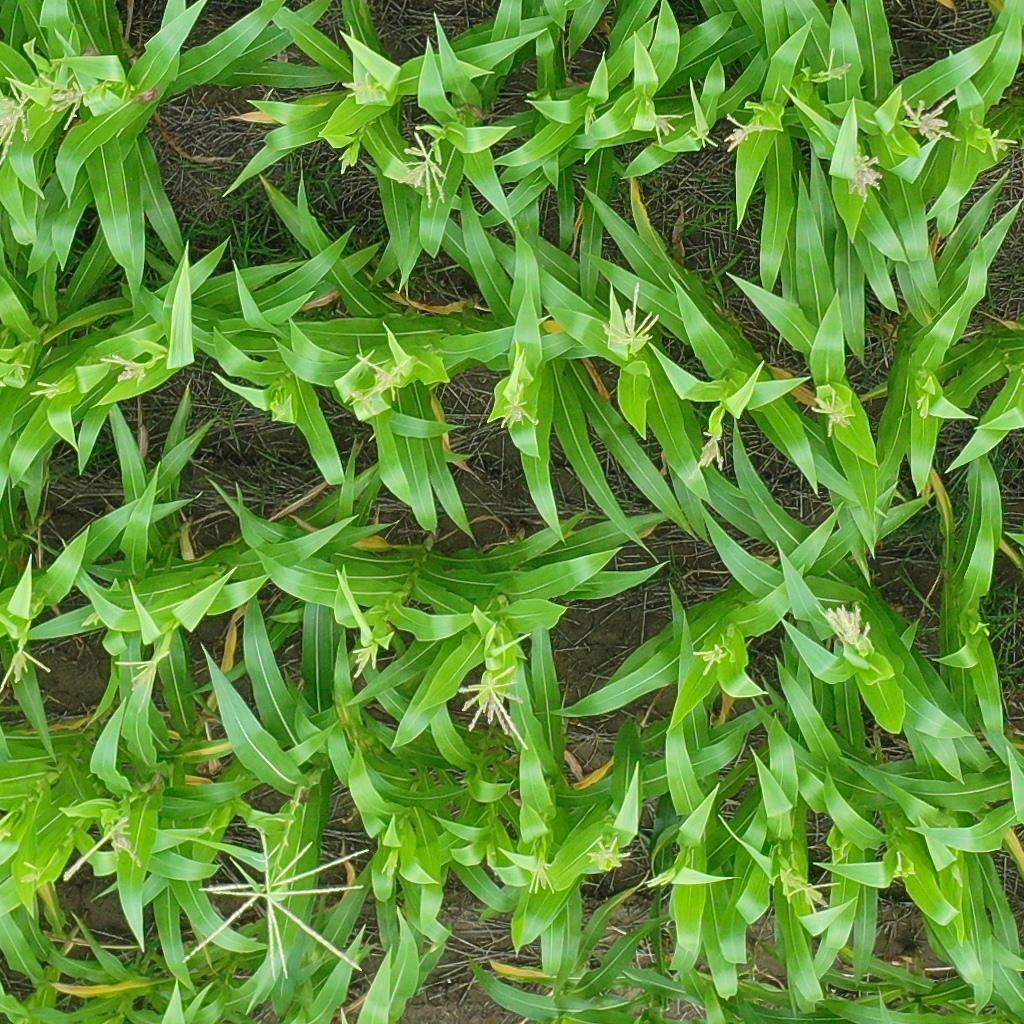Tassel: (181, 824, 380, 980), (460, 666, 535, 750), (59, 814, 147, 883), (598, 279, 662, 351), (398, 128, 452, 209), (109, 650, 172, 715), (41, 70, 104, 133), (897, 91, 961, 145), (351, 348, 409, 406), (1, 637, 59, 695), (817, 600, 874, 657), (841, 148, 888, 204), (683, 429, 729, 485), (787, 874, 842, 920), (1, 89, 33, 167), (493, 382, 541, 430), (97, 349, 154, 389), (811, 388, 855, 438), (719, 111, 772, 152), (644, 103, 684, 146), (338, 71, 388, 103), (589, 836, 632, 873), (522, 857, 559, 897), (980, 125, 1018, 163), (346, 645, 384, 682), (821, 46, 856, 83), (692, 642, 728, 676), (28, 375, 62, 404), (333, 143, 359, 177), (14, 860, 47, 886), (4, 359, 32, 387), (643, 869, 680, 890), (687, 123, 716, 149)
